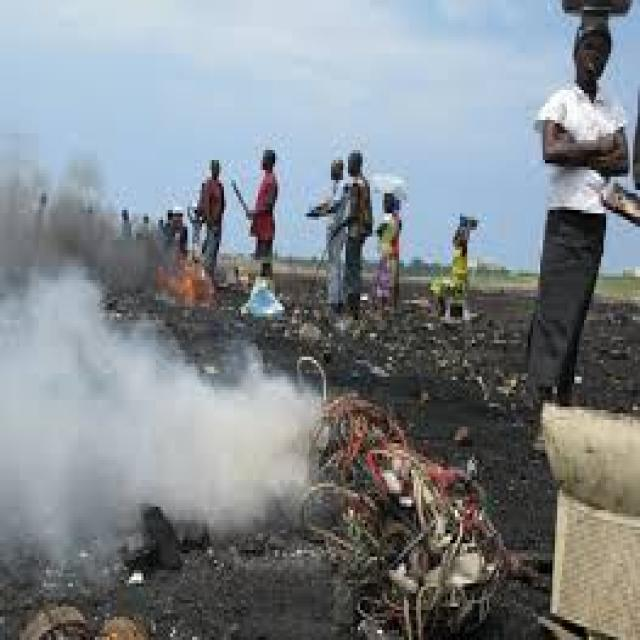smoke: (0, 280, 360, 600), (0, 167, 190, 336)
